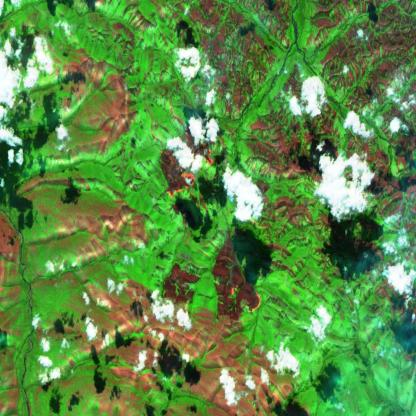fire: (200, 252, 266, 324), (150, 138, 221, 204)
